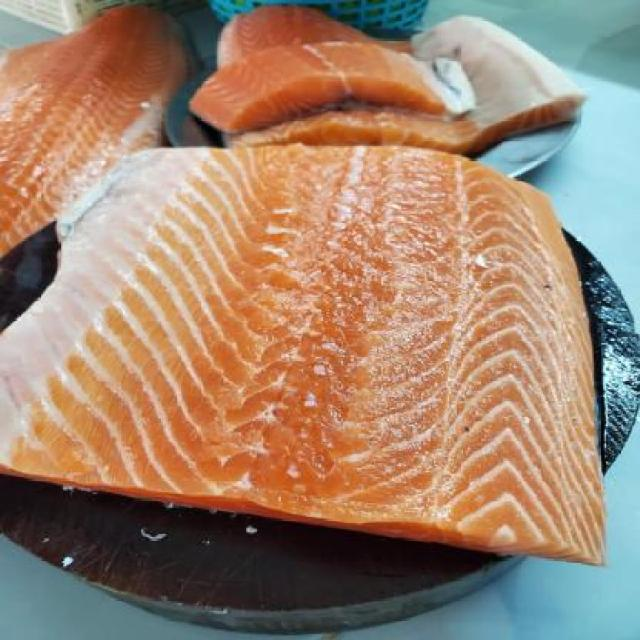salmon: (8, 128, 624, 576), (206, 2, 588, 169), (2, 3, 180, 260), (175, 43, 478, 120)
